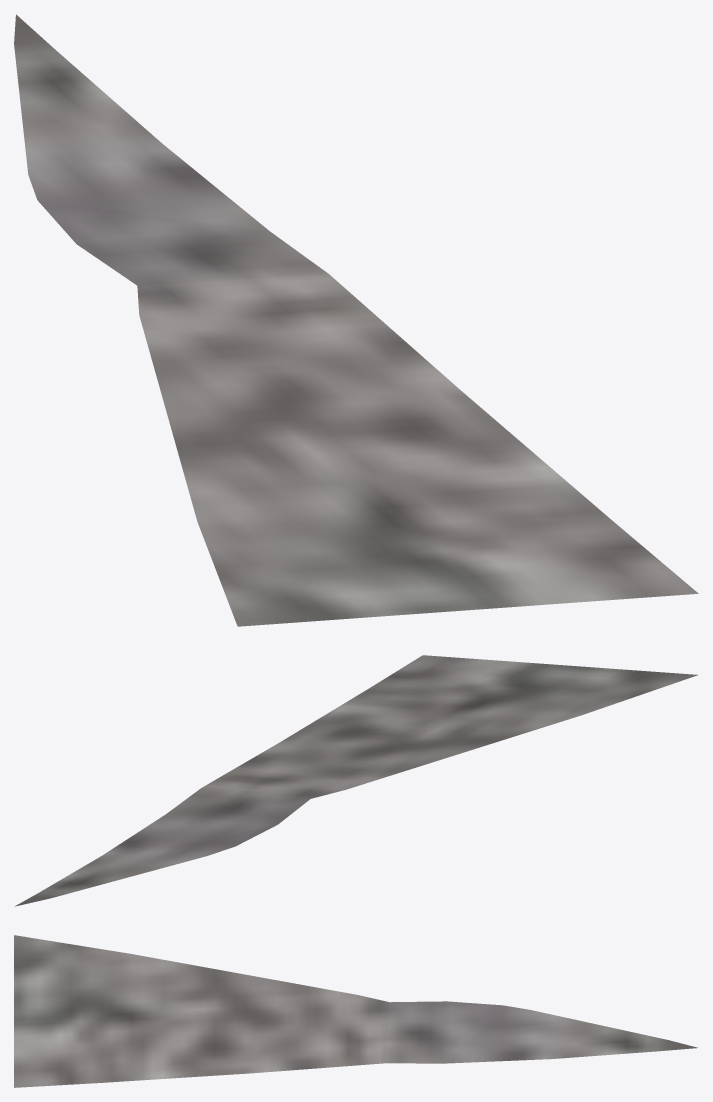
The picture shows the model from 3 angles, top to bottom: view 1: azimuth 30°, elevation 25°; view 2: azimuth 150°, elevation 25°; view 3: azimuth 270°, elevation 25°; orthographic projection. The views are drawn at different scales.
Bounding box in the file's own units: 0.083 × 0.0137 × 0.2128.
Materials: 1 (1 with a texture image).
